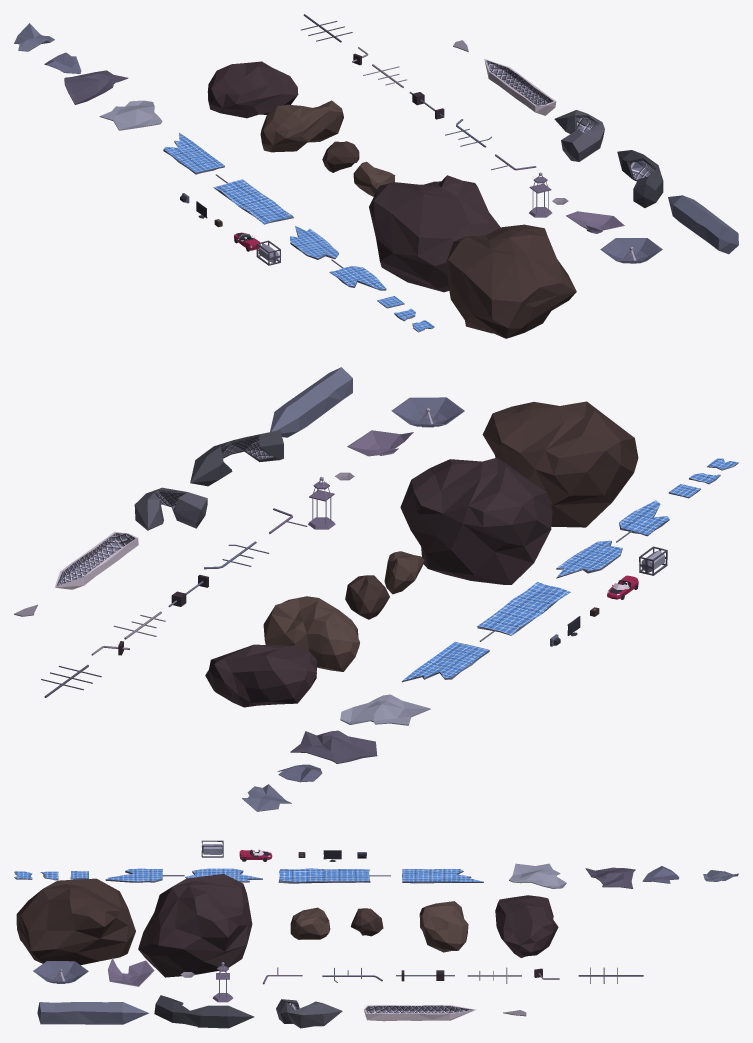
The model's file is ws_all_models_display.glb.
3 views of the same model, one above another, from view 1: azimuth 30°, elevation 25°; view 2: azimuth 150°, elevation 25°; view 3: azimuth 270°, elevation 25° (orthographic). The views are drawn at different scales.
Parts seen in each view (by area): view 1: Asteroid_6, Asteroid_5, Asteroid_3, Asteroid_4, Rocket_whole_0, Rocket_broken_1, Rocket_broken_0, Hull_half, Solar_big_whole, sheet_1, sheet_0, Solar_big_broken_0 (+8 smaller); view 2: Asteroid_5, Asteroid_6, Asteroid_3, Asteroid_4, Rocket_whole_0, Rocket_broken_0, Solar_big_whole, Hull_half, Rocket_broken_1, sheet_1, sheet_0, Solar_big_broken_0 (+8 smaller); view 3: Asteroid_5, Asteroid_6, Asteroid_3, Rocket_whole_0, Asteroid_4, Rocket_broken_0, Hull_half, Solar_big_whole, Rocket_broken_1, Asteroid_1, sheet_0, Solar_big_broken_0 (+10 smaller).
Boxes of the visible parts, x1,y1,x2,y2 form: Asteroid_6: [445, 224, 576, 338]; Asteroid_5: [369, 175, 500, 292]; Asteroid_3: [207, 61, 298, 118]; Asteroid_4: [260, 100, 343, 152]; Rocket_whole_0: [668, 195, 738, 254]; Rocket_broken_1: [554, 110, 604, 161]; Rocket_broken_0: [617, 150, 663, 207]; Hull_half: [484, 59, 556, 115]; Solar_big_whole: [213, 174, 293, 224]; sheet_1: [64, 70, 128, 104]; sheet_0: [99, 100, 162, 130]; Solar_big_broken_0: [163, 133, 224, 174]; Asteroid_5: [400, 457, 552, 584]; Asteroid_6: [482, 401, 638, 527]; Asteroid_3: [205, 644, 317, 707]; Asteroid_4: [263, 596, 359, 671]; Rocket_whole_0: [270, 367, 352, 437]; Rocket_broken_0: [190, 430, 283, 486]; Solar_big_whole: [477, 582, 570, 641]; Hull_half: [54, 531, 138, 589]; Rocket_broken_1: [134, 487, 207, 530]; sheet_1: [290, 730, 377, 763]; sheet_0: [340, 694, 430, 725]; Solar_big_broken_0: [402, 641, 489, 682]; Asteroid_5: [138, 874, 252, 977]; Asteroid_6: [16, 878, 135, 965]; Asteroid_3: [495, 895, 558, 957]; Rocket_whole_0: [37, 1002, 149, 1024]; Asteroid_4: [419, 901, 468, 952]; Rocket_broken_0: [154, 995, 254, 1028]; Hull_half: [364, 1005, 475, 1021]; Solar_big_whole: [278, 868, 390, 883]; Rocket_broken_1: [276, 999, 342, 1028]; Asteroid_1: [290, 907, 330, 939]; sheet_0: [509, 863, 566, 888]; Solar_big_broken_0: [402, 869, 483, 883].
Bounding box in the file's own units: 5086 × 1279 × 9199.
2 materials, 2 textured.
